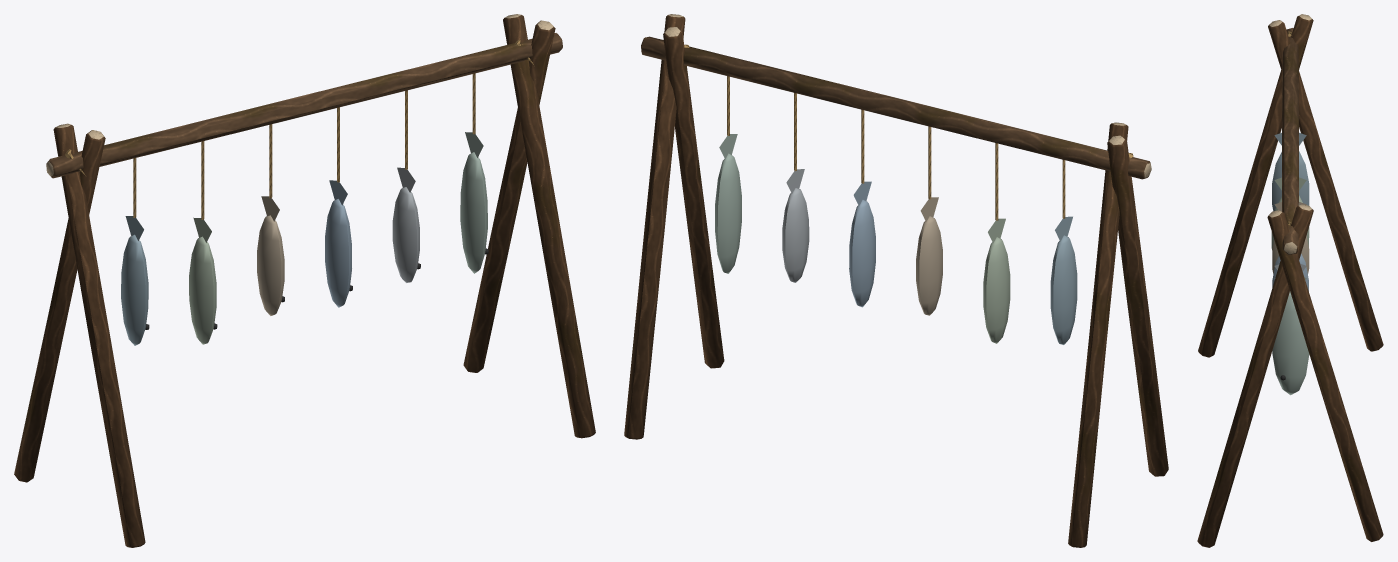
The model's file is fish-rack.glb.
3 renders of one model, left to right at view 1: azimuth 30°, elevation 25°; view 2: azimuth 150°, elevation 25°; view 3: azimuth 270°, elevation 25°, orthographic. The views are drawn at different scales.
Visible parts, largest first — view 1: fish-rack; view 2: fish-rack; view 3: fish-rack.
Part boxes in pixels (x1=…): fish-rack: x1=14, y1=14, x2=595, y2=547; fish-rack: x1=624, y1=14, x2=1168, y2=547; fish-rack: x1=1197, y1=14, x2=1383, y2=547.
Size of the model in its own units: 2.04 by 1.48 by 0.7451.
Materials: 3 (2 with a texture image).
